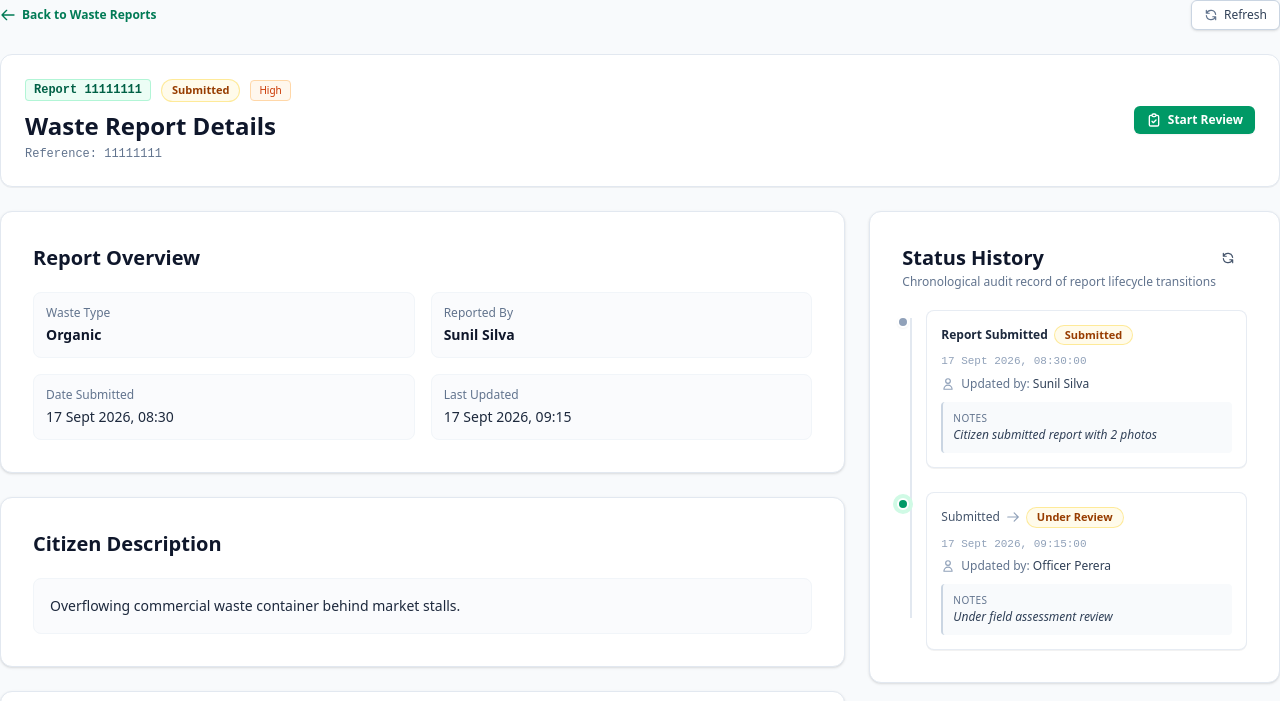
Test case: WasteReportDetailPage › handles 409 Conflict race condition gracefully: displays friendly message and refetches latest data
What coordinates should you click on to do the following:
click the button "Start Review"
I would click on:
 (1194, 120)
Its box is [1134,106,1255,134].
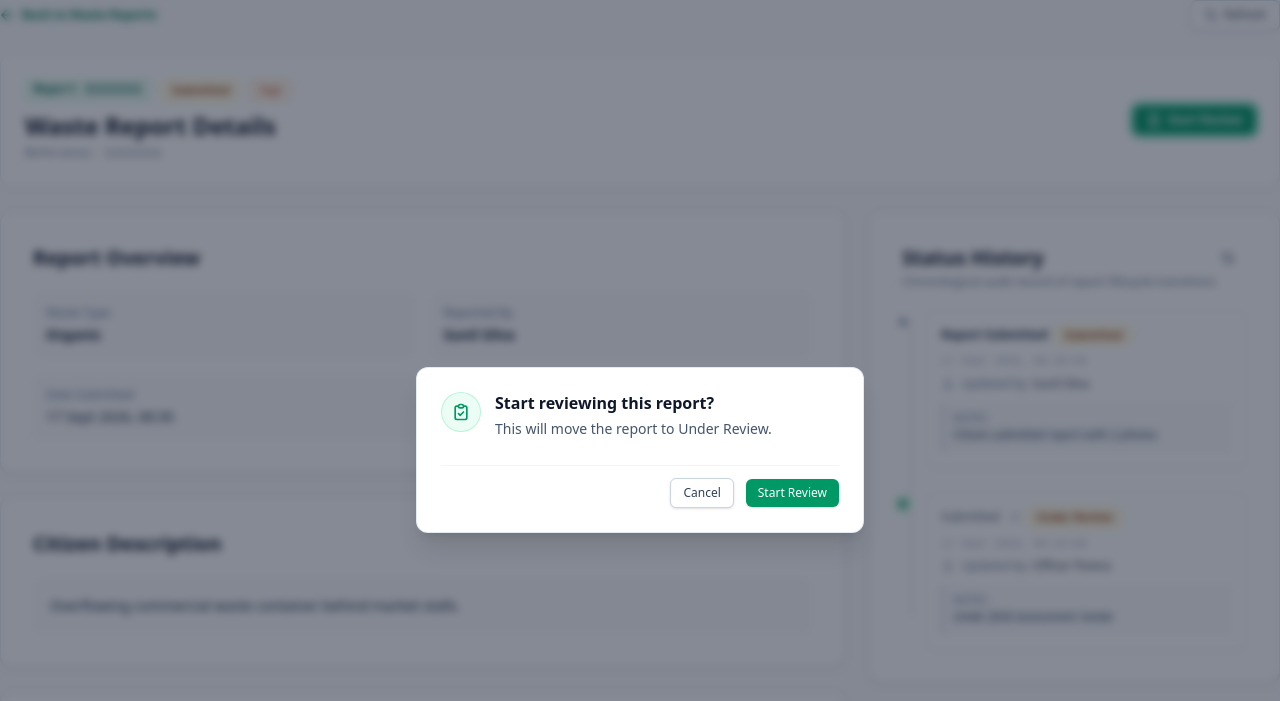
What coordinates should you click on to do the following:
click the button with test id "confirm-start-review-button"
I would click on:
 (792, 493)
Its box is [746,479,839,507].
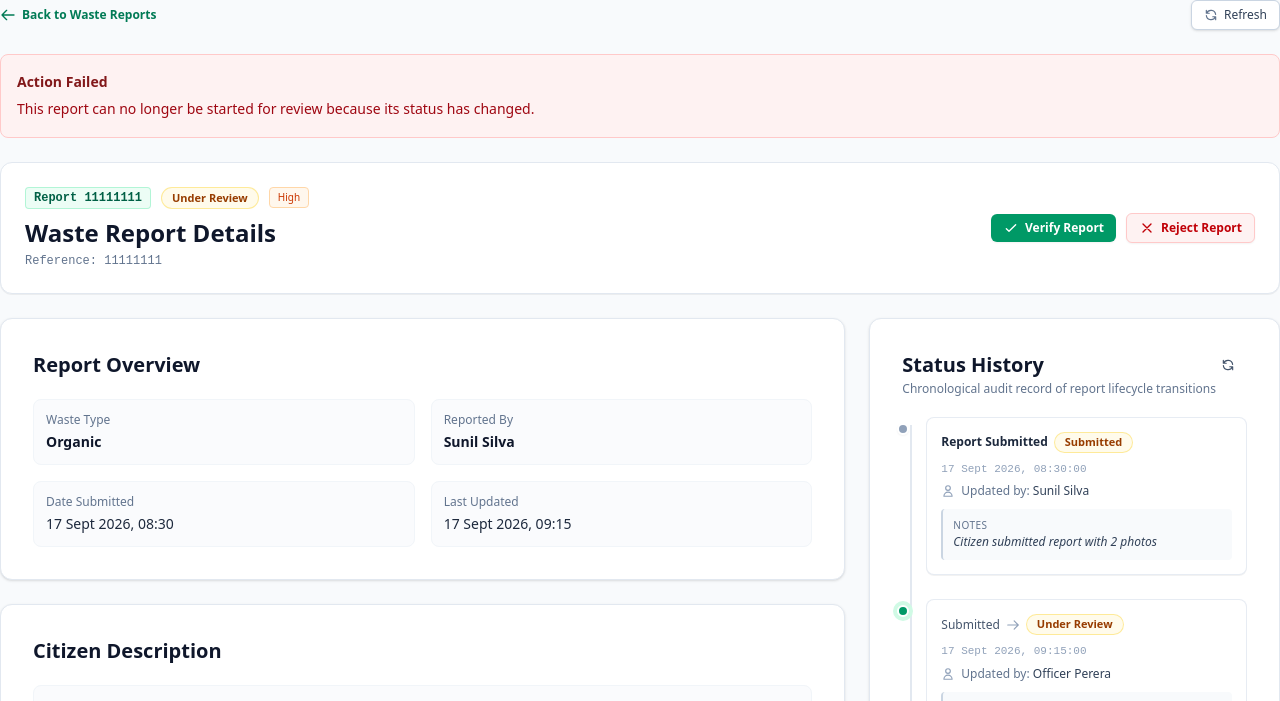
Expected: the text "This report can no longer be started for review because its status has changed." is shown, [17,99,534,118]
